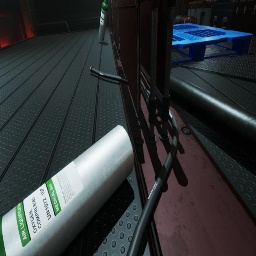0: (0, 125, 134, 256), (98, 0, 108, 41)
NitrogenTank ,: (175, 15, 197, 25)
